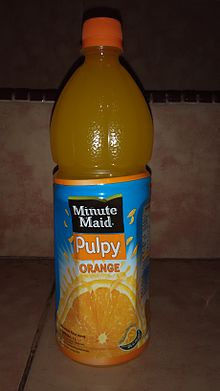botol: (47, 17, 150, 364), (50, 17, 151, 364), (50, 17, 150, 364)
